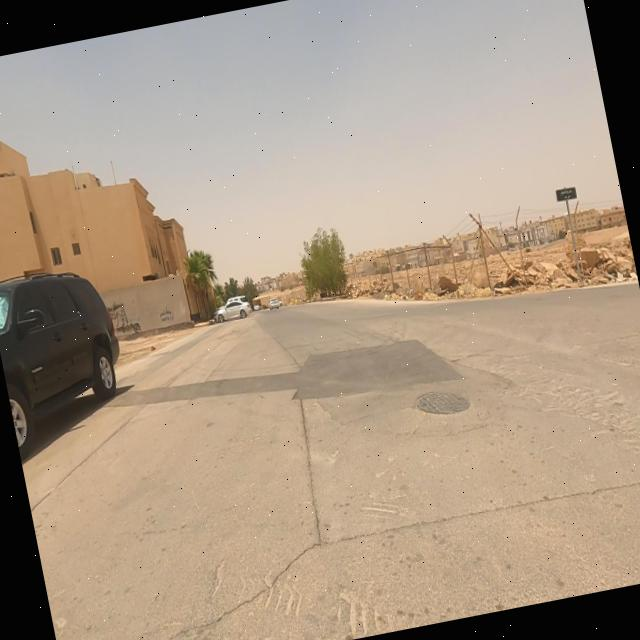Graffiti: (111, 300, 141, 335), (158, 307, 177, 325)
